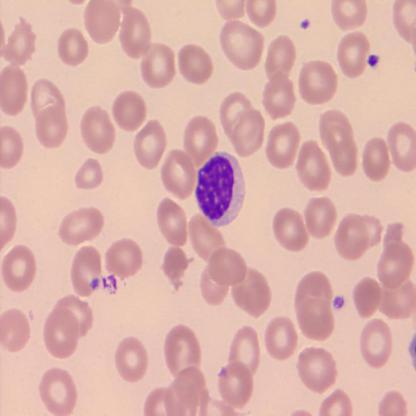Myelocyte: (195, 150, 244, 224)
